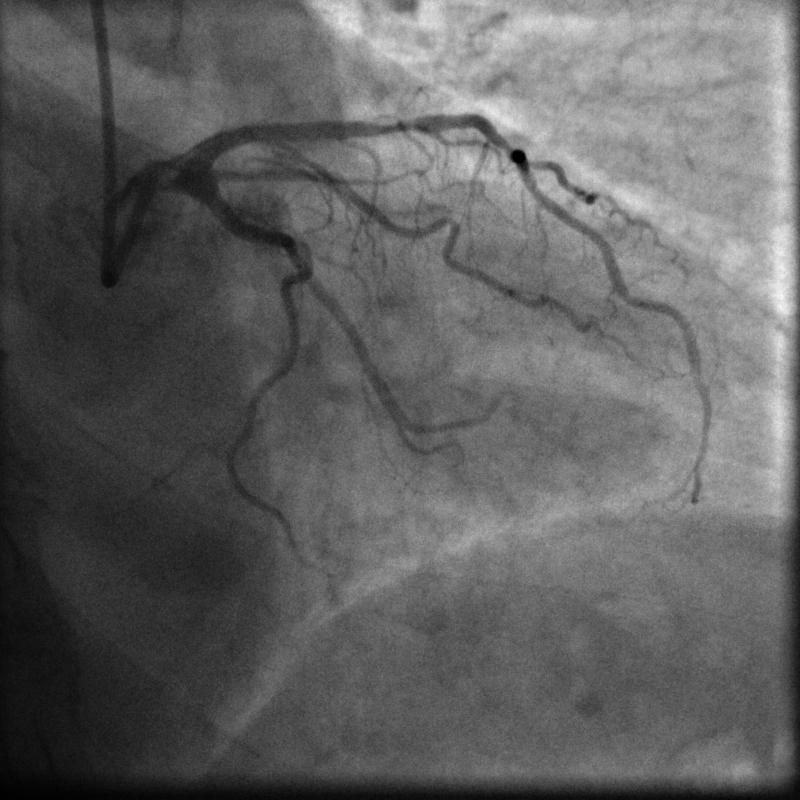Stenosis: (356, 115, 425, 138)
